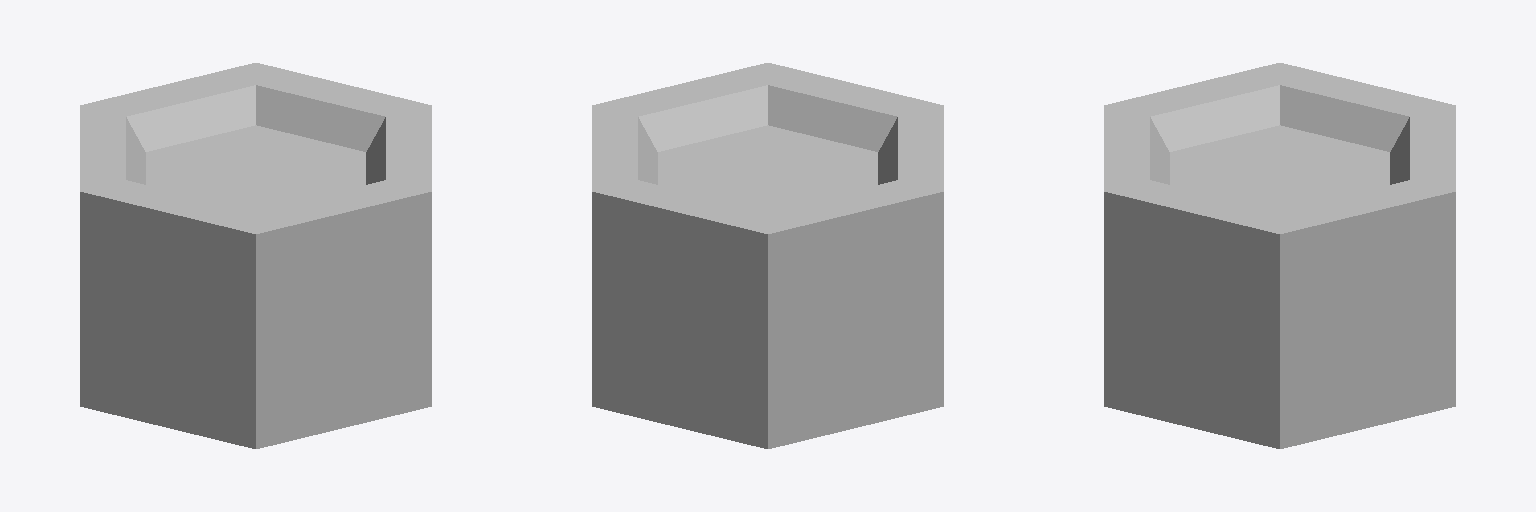
File: maki-vegetable.obj
3 views of the same model, side by side, from view 1: azimuth 30°, elevation 25°; view 2: azimuth 150°, elevation 25°; view 3: azimuth 270°, elevation 25° (orthographic).
Parts seen in each view (by area): view 1: maki-vegetable; view 2: maki-vegetable; view 3: maki-vegetable.
Boxes of the visible parts, x1=… form: maki-vegetable: x1=80, y1=63, x2=431, y2=448; maki-vegetable: x1=592, y1=63, x2=943, y2=448; maki-vegetable: x1=1104, y1=63, x2=1455, y2=448.
Size of the model in its own units: 0.12 by 0.07 by 0.1039.